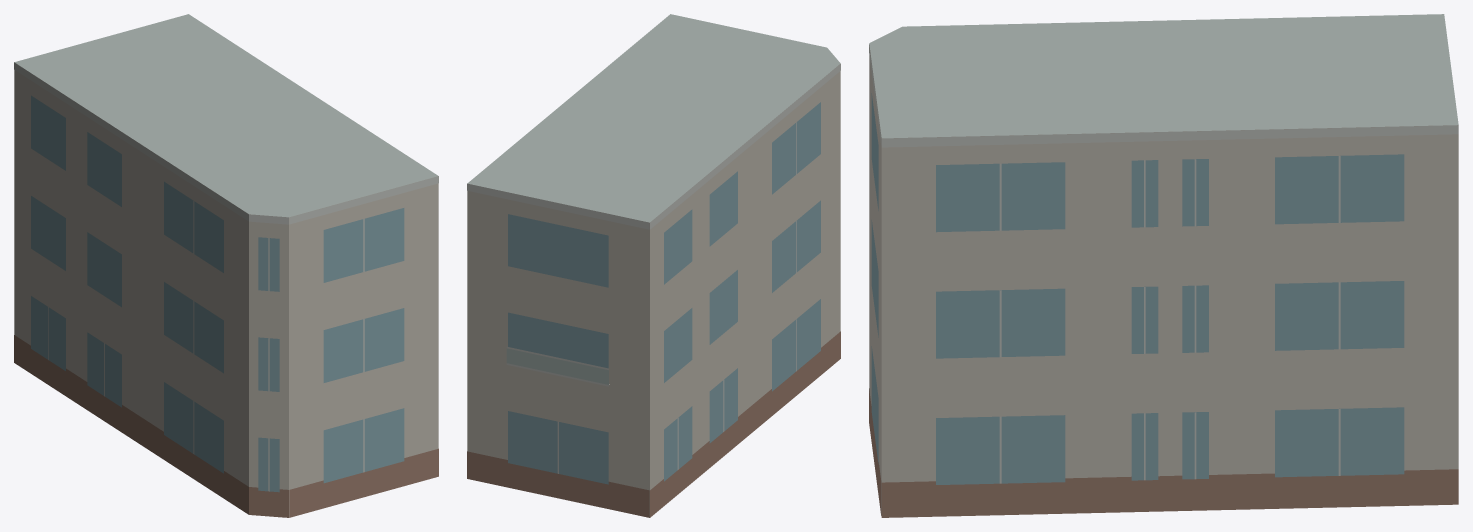
Rendered from survey-upis-32739101.glb.
3 renders of one model, left to right at view 1: azimuth 30°, elevation 25°; view 2: azimuth 150°, elevation 25°; view 3: azimuth 270°, elevation 25°, orthographic. The views are drawn at different scales.
Visible parts, largest first — view 1: survey-upis-32739101.tmp; view 2: survey-upis-32739101.tmp; view 3: survey-upis-32739101.tmp.
Boxes of the visible parts, box(x1,y1,x2,y2) form: survey-upis-32739101.tmp: box(14, 14, 438, 517); survey-upis-32739101.tmp: box(467, 14, 840, 517); survey-upis-32739101.tmp: box(869, 14, 1458, 517).
Bounding box in the file's own units: 7.04 × 10 × 14.09.
